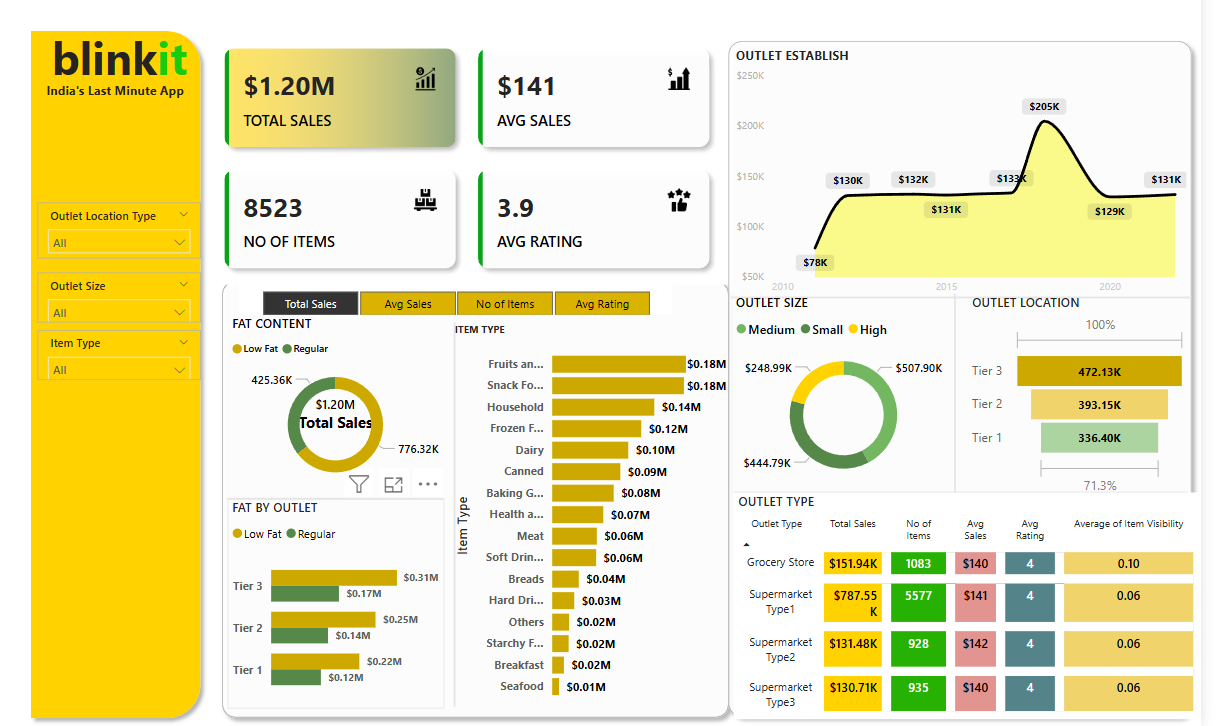

What the dashboard file says about the page in this screenshot:
{"tool":"powerbi","page":{"name":"Page 1","canvas":[1400,800],"ordinal":0},"visuals":[{"type":"shape","box":[136.7,45,200,755],"z":0},{"type":"textbox","box":[145,45,191.7,76.7],"z":1000},{"type":"textbox","box":[153.3,105,166.7,33.3],"z":2000},{"type":"shape","box":[341.7,313.3,561.7,486.7],"z":4000},{"type":"slicer","title":"FAT CONTENT","fields":{"Values":["BlinkIT Grocery Data.Outlet Location Type"]},"box":[153.3,238.3,175,60],"z":5000},{"type":"slicer","fields":{"Values":["Matrics.Matrics"]},"box":[368.6,327.1,465.1,32.2],"z":6000},{"type":"cardVisual","fields":{"Data":["BlinkIT Grocery Data.Total Sales"]},"box":[412.9,429,119.3,60.3],"z":7000},{"type":"clusteredBarChart","title":"FAT BY OUTLET","fields":{"Y":["BlinkIT Grocery Data.Total Sales"],"Category":["BlinkIT Grocery Data.Outlet Location Type"],"Series":["BlinkIT Grocery Data.Item Fat Content"]},"box":[356.7,556.7,231.7,225],"z":8000},{"type":"shape","box":[588.3,366.7,23.3,411.7],"z":9000},{"type":"shape","box":[356.7,550,231.7,13.3],"z":10000},{"type":"barChart","title":"ITEM TYPE","fields":{"Y":["BlinkIT Grocery Data.Total Sales"],"Category":["BlinkIT Grocery Data.Item Type"]},"box":[595.2,367.3,301.6,414.2],"z":11000},{"type":"shape","box":[885,56.7,515,743.3],"z":12000},{"type":"lineChart","title":"OUTLET ESTABLISH","fields":{"Y":["BlinkIT Grocery Data.Total Sales"],"Category":["BlinkIT Grocery Data.Outlet Establishment Year"]},"box":[896.7,71.7,493.3,275],"z":13000},{"type":"shape","box":[896.7,333.3,493.3,13.3],"z":14000},{"type":"donutChart","title":"OUTLET SIZE","fields":{"Y":["BlinkIT Grocery Data.Total Sales"],"Category":["BlinkIT Grocery Data.Outlet Size"]},"box":[896.8,336.5,241.3,213.1],"z":15000},{"type":"funnel","title":"OUTLET LOCATION","fields":{"Y":["Sum(BlinkIT Grocery Data.Sales)"],"Category":["BlinkIT Grocery Data.Outlet Location Type"]},"box":[1150,336.7,240,220],"z":16000},{"type":"shape","box":[1130,336.7,13.3,213.3],"z":17000},{"type":"shape","box":[900,543.3,486.7,13.3],"z":18000},{"type":"pivotTable","title":"OUTLET TYPE","fields":{"Rows":["BlinkIT Grocery Data.Outlet Type"],"Values":["BlinkIT Grocery Data.Total Sales","BlinkIT Grocery Data.No of Items","BlinkIT Grocery Data.Avg  Sales","BlinkIT Grocery Data.Avg Rating","Avg(BlinkIT Grocery Data.Item Visibility)"]},"box":[900,550,500,243.3],"z":19000},{"type":"slicer","title":"FAT CONTENT","fields":{"Values":["BlinkIT Grocery Data.Outlet Size"]},"box":[153.3,313.3,175,53.3],"z":20000},{"type":"slicer","title":"FAT CONTENT","fields":{"Values":["BlinkIT Grocery Data.Item Type"]},"box":[153.3,375,175,53.3],"z":21000},{"type":"actionButton","box":[0,0,100,40],"z":22000},{"type":"donutChart","title":"FAT CONTENT","fields":{"Y":["Sum(BlinkIT Grocery Data.Sales)"],"Category":["BlinkIT Grocery Data.Item Fat Content"]},"box":[356.6,359.3,231.9,190.3],"z":23000},{"type":"cardVisual","fields":{"Data":["BlinkIT Grocery Data.Total Sales","BlinkIT Grocery Data.Avg  Sales","BlinkIT Grocery Data.No of Items","BlinkIT Grocery Data.Avg Rating"]},"box":[336.5,56.3,555,270.8],"z":23001}]}

Visuals, with their boxes on the page's 1400x800 design canvas (x1, y1, x2, y2). These are canvas units, not pixel positions in the 1220x726 screenshot, which may show the page scaled, cropped or inside an application window:
shape: 137, 45, 337, 800
textbox: 145, 45, 337, 122
textbox: 153, 105, 320, 138
shape: 342, 313, 903, 800
"FAT CONTENT" slicer: 153, 238, 328, 298
slicer - Matrics.Matrics: 369, 327, 834, 359
cardVisual - BlinkIT Grocery Data.Total Sales: 413, 429, 532, 489
"FAT BY OUTLET" clusteredBarChart: 357, 557, 588, 782
shape: 588, 367, 612, 778
shape: 357, 550, 588, 563
"ITEM TYPE" barChart: 595, 367, 897, 782
shape: 885, 57, 1400, 800
"OUTLET ESTABLISH" lineChart: 897, 72, 1390, 347
shape: 897, 333, 1390, 347
"OUTLET SIZE" donutChart: 897, 336, 1138, 550
"OUTLET LOCATION" funnel: 1150, 337, 1390, 557
shape: 1130, 337, 1143, 550
shape: 900, 543, 1387, 557
"OUTLET TYPE" pivotTable: 900, 550, 1400, 793
"FAT CONTENT" slicer: 153, 313, 328, 367
"FAT CONTENT" slicer: 153, 375, 328, 428
actionButton: 0, 0, 100, 40
"FAT CONTENT" donutChart: 357, 359, 588, 550
cardVisual - BlinkIT Grocery Data.Total Sales x BlinkIT Grocery Data.Avg  Sales: 336, 56, 892, 327
